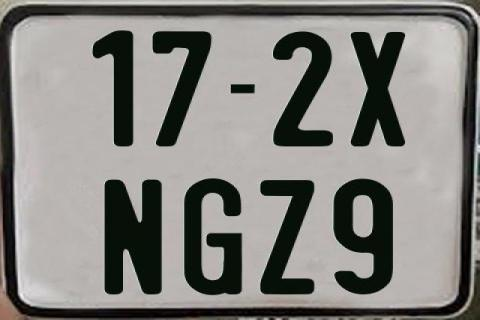0: (270, 29, 335, 147), (332, 179, 397, 295), (152, 29, 212, 147), (89, 28, 131, 146)
G: (181, 177, 243, 295)
N: (101, 178, 159, 296)
X: (349, 32, 405, 146)
Z: (260, 179, 320, 295)
